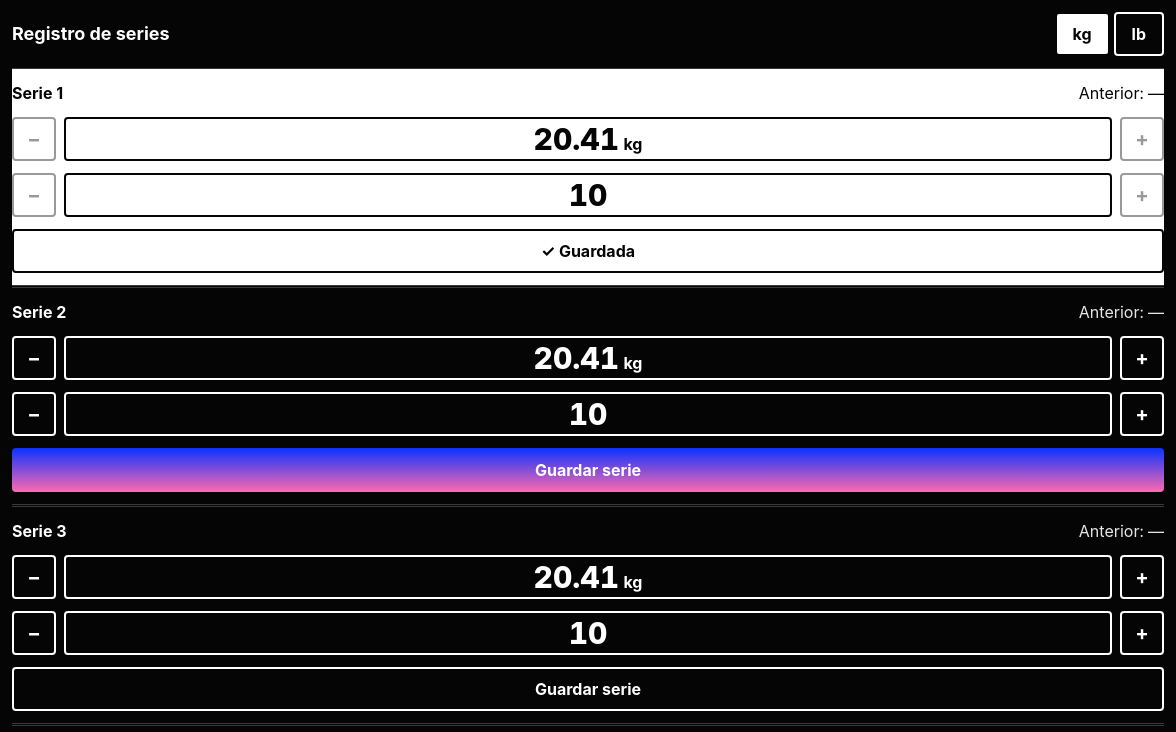
LoggingSection — unidad de peso (08 R1, R4, R6, R7, R11, R14, R15) › R11: las series ya guardadas hoy se releen en la nueva unidad, sin reguardar
Expected: the heading "Serie 1" is shown, [12,81,63,105]
Expected: the button with aria-label "Peso serie 1" reads "20.41 kg", [64,117,1112,161]
Click the button "lb": coordinates (1139, 34) [1114,12,1164,56]
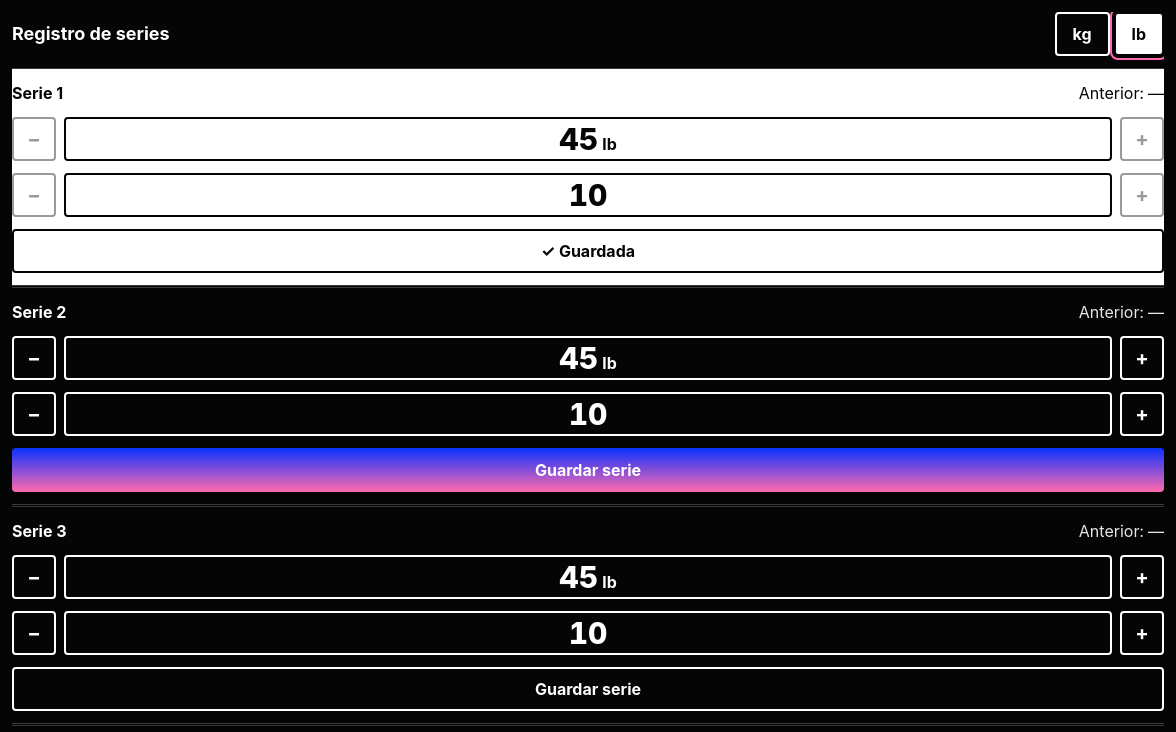
Expected: the button "✓ Guardada" is disabled, [12,229,1164,273]
Now the button with aria-label "Peso serie 1" reads "45 lb", box [64,117,1112,161]
